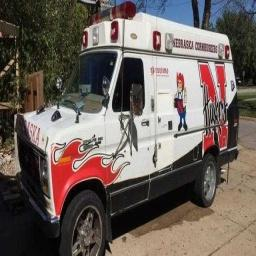ambulance: (15, 2, 238, 254)
